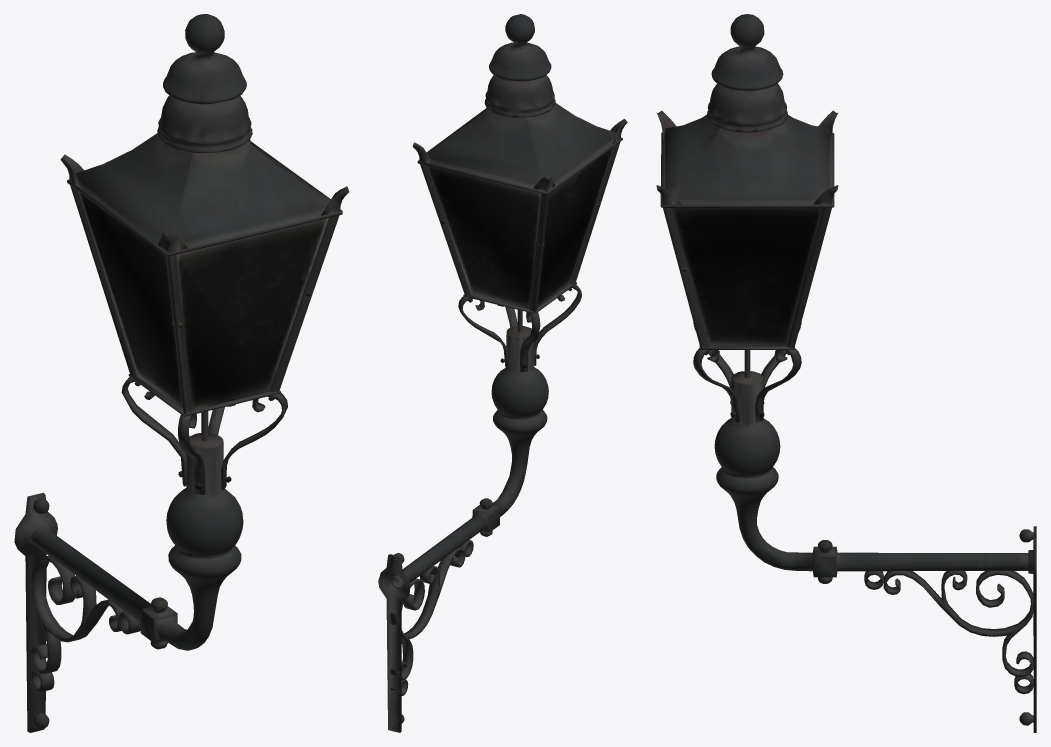
The model's file is plaza-lamp.glb.
3 renders of one model, left to right at view 1: azimuth 30°, elevation 25°; view 2: azimuth 150°, elevation 25°; view 3: azimuth 270°, elevation 25°, orthographic. The views are drawn at different scales.
Visible parts, largest first — view 1: street_lamp_02; view 2: street_lamp_02; view 3: street_lamp_02.
Boxes of the visible parts, x1,y1,x2,y2 form: street_lamp_02: [14, 14, 349, 732]; street_lamp_02: [378, 14, 627, 732]; street_lamp_02: [656, 14, 1036, 732].
Bounding box in the file's own units: 0.3863 × 1.67 × 0.8065.
2 materials, 2 textured.
